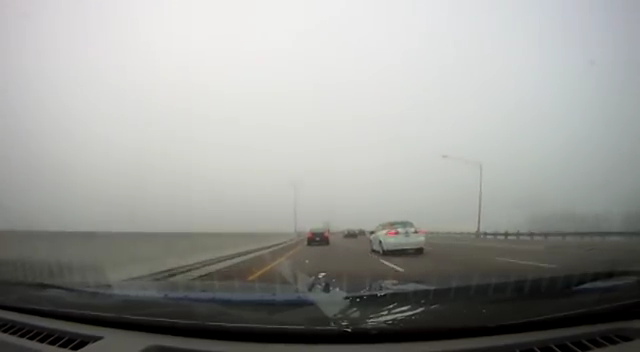car: (368, 220, 426, 256), (306, 227, 330, 246), (343, 228, 359, 238), (355, 227, 366, 236)
